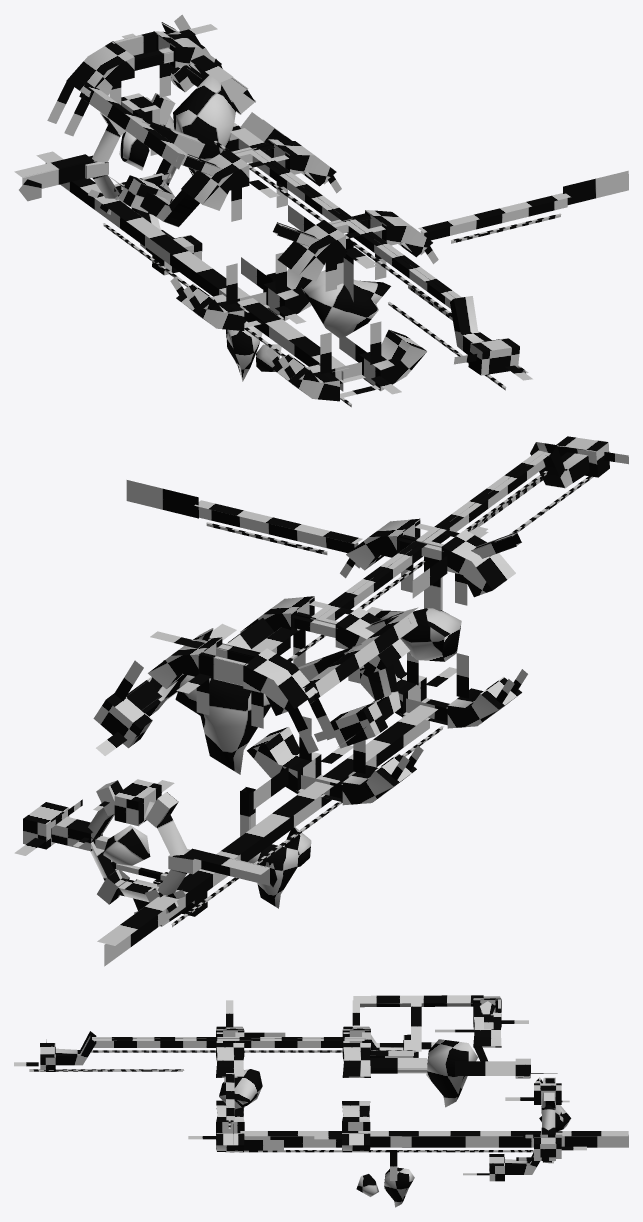
Rendered from asset-mmo-mining-station-c.obj.
3 views of the same model, one above another, from view 1: azimuth 30°, elevation 25°; view 2: azimuth 150°, elevation 25°; view 3: azimuth 270°, elevation 25° (orthographic). The views are drawn at different scales.
Visible parts, largest first — view 1: asset_mmo_miningstation_c; view 2: asset_mmo_miningstation_c; view 3: asset_mmo_miningstation_c.
Part boxes in pixels (x1,y1,x2,y2): asset_mmo_miningstation_c: (14, 14, 628, 407); asset_mmo_miningstation_c: (14, 436, 628, 966); asset_mmo_miningstation_c: (14, 995, 628, 1207).
Bounding box in the file's own units: 185 × 145 × 397.
Materials: 1 (1 with a texture image).
